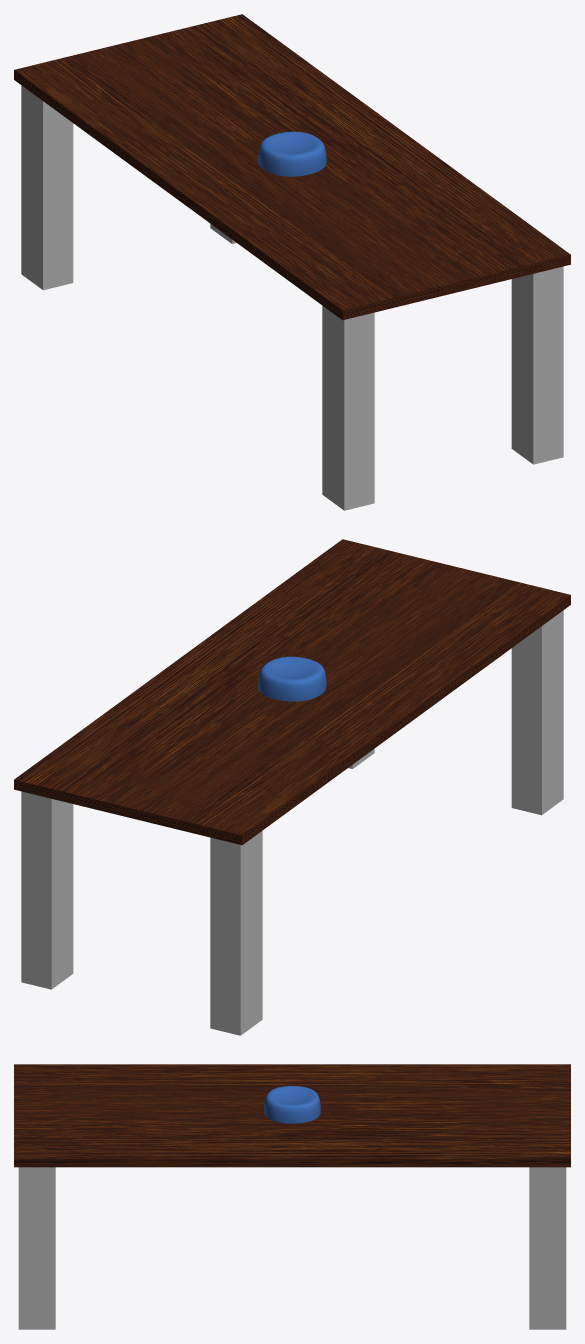
Rendered from testeMesa.fbx.
3 views of the same model, one above another, from view 1: azimuth 30°, elevation 25°; view 2: azimuth 150°, elevation 25°; view 3: azimuth 270°, elevation 25° (orthographic). The views are drawn at different scales.
Parts seen in each view (by area): view 1: Cube, Cube.002, Cube.003, Cube.005, Base; view 2: Cube, Cube.005, Cube.004, Cube.002, Base; view 3: Cube, Cube.003, Cube.004, Base.
Part boxes in pixels (x1,y1,x2,y2): Cube: [14, 14, 570, 320]; Cube.002: [322, 306, 374, 510]; Cube.003: [511, 266, 563, 464]; Cube.005: [21, 85, 73, 290]; Base: [258, 131, 326, 176]; Cube: [14, 539, 570, 845]; Cube.005: [210, 831, 262, 1035]; Cube.004: [21, 791, 73, 989]; Cube.002: [511, 610, 563, 815]; Base: [258, 656, 326, 701]; Cube: [14, 1064, 570, 1167]; Cube.003: [18, 1167, 55, 1329]; Cube.004: [529, 1167, 566, 1329]; Base: [264, 1086, 320, 1123].
Bounding box in the file's own units: 230 × 214 × 573.
Materials: 3 (1 with a texture image).
